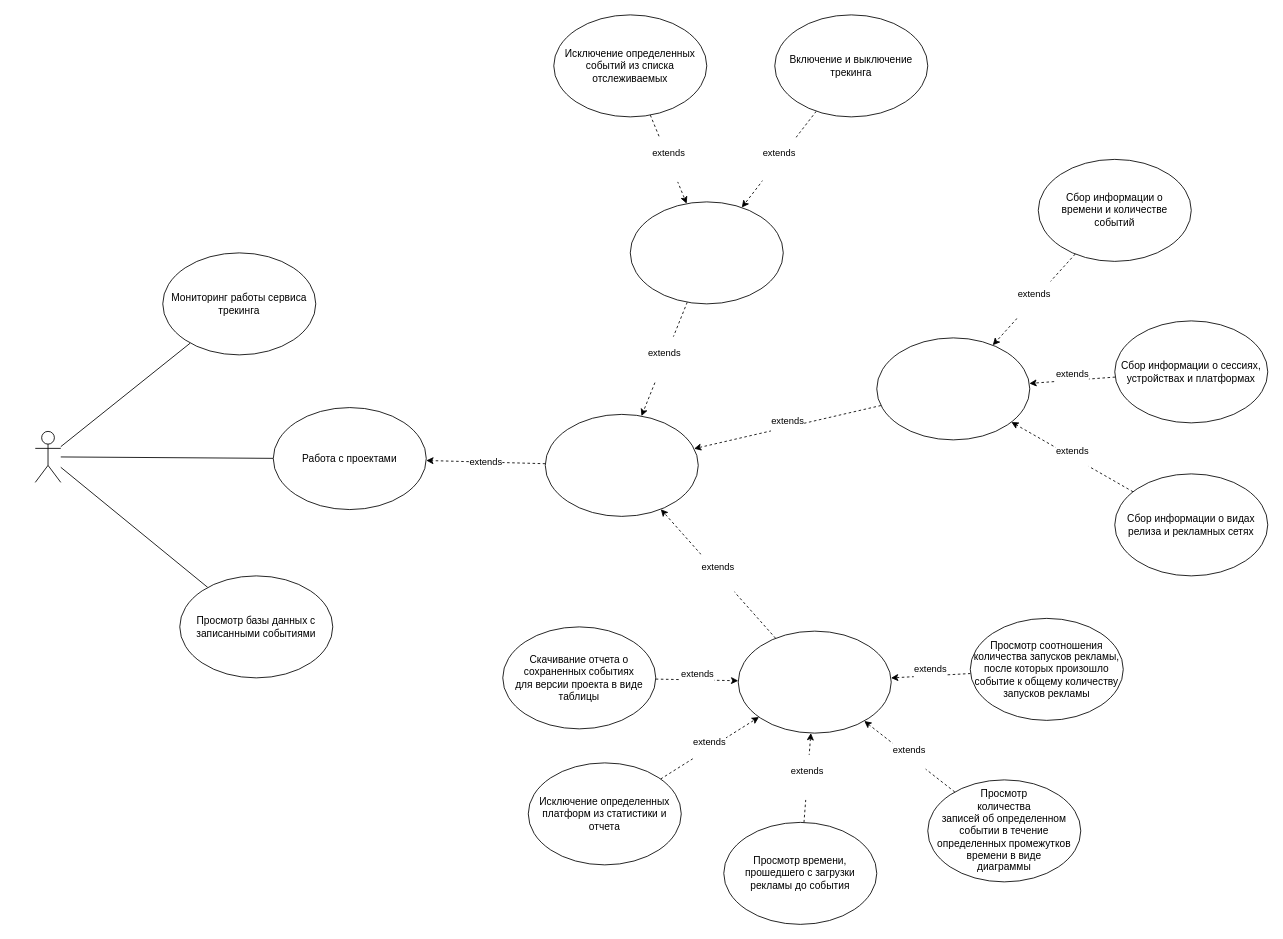
This 1283x939 diagram has some shape labels left out. Each missing label, with the centre of its shape:
"Изменение настроек версий проектов" goes at pixel 706 252.
"Открытие информационной сводки по отслеживанию событий в версии" goes at pixel 814 681.
"Пользователь" goes at pixel 47 456.
"Работа с версиями проектов" goes at pixel 621 465.
"Сборка релиза версии с трекингом" goes at pixel 953 388.
